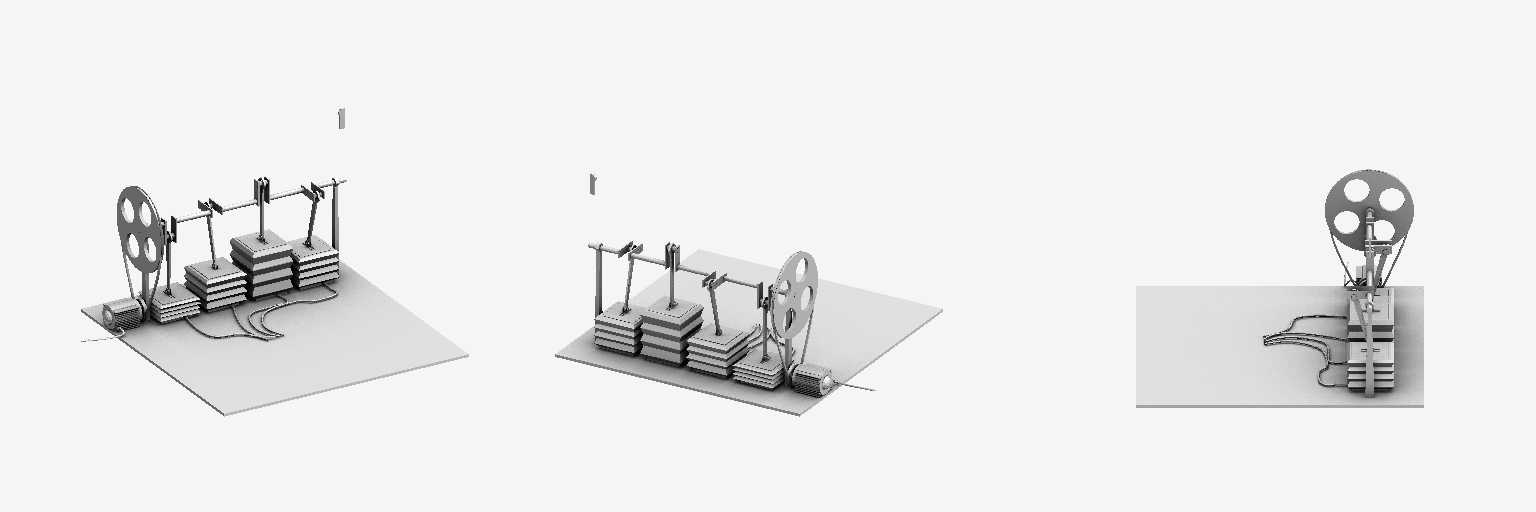
The picture shows the model from 3 angles: view 1: azimuth 30°, elevation 25°; view 2: azimuth 150°, elevation 25°; view 3: azimuth 270°, elevation 25°; orthographic projection.
Visible parts, largest first — view 1: Box13; view 2: Box13; view 3: Box13.
Part boxes in pixels (x1,y1,x2,y2): Box13: (81, 108, 468, 416); Box13: (555, 173, 942, 416); Box13: (1136, 169, 1423, 407).
Bounding box in the file's own units: 997 × 560 × 879.
1 materials, 1 textured.